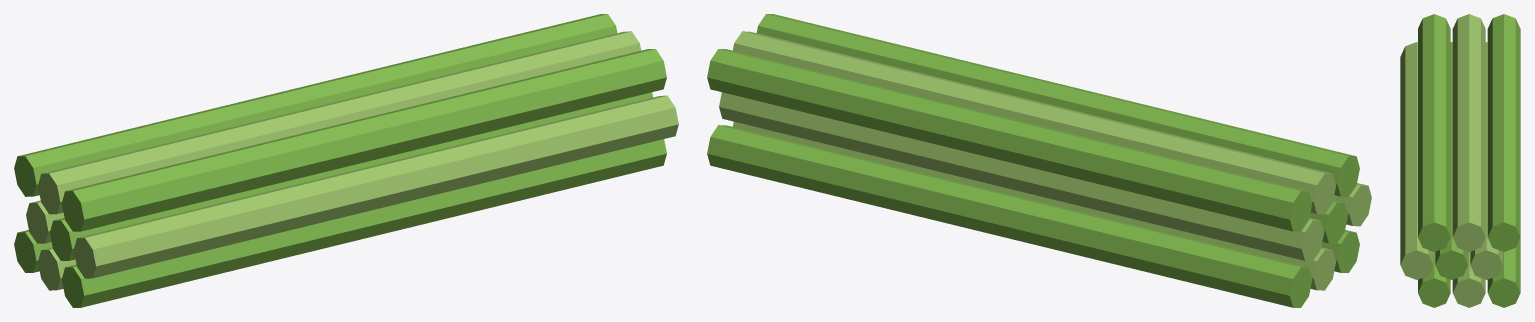
File: bai-tre.glb
3 views of the same model, side by side, from view 1: azimuth 30°, elevation 25°; view 2: azimuth 150°, elevation 25°; view 3: azimuth 270°, elevation 25° (orthographic). The views are drawn at different scales.
Parts seen in each view (by area): view 1: bai-tre-5, bai-tre-8, bai-tre-2, bai-tre-7, bai-tre-6, bai-tre-4, bai-tre-3, bai-tre-1, bai-tre-0; view 2: bai-tre-0, bai-tre-6, bai-tre-3, bai-tre-7, bai-tre-8, bai-tre-1, bai-tre-5, bai-tre-2, bai-tre-4; view 3: bai-tre-7, bai-tre-6, bai-tre-8, bai-tre-5, bai-tre-4, bai-tre-3, bai-tre-0, bai-tre-1, bai-tre-2.
Part boxes in pixels (box(x1,y1,x2,y2)): bai-tre-5: box(73, 95, 678, 278); bai-tre-8: box(61, 49, 666, 231); bai-tre-2: box(61, 139, 666, 307); bai-tre-7: box(38, 31, 641, 214); bai-tre-6: box(14, 14, 617, 196); bai-tre-4: box(50, 92, 652, 260); bai-tre-3: box(26, 200, 64, 243); bai-tre-1: box(38, 247, 76, 290); bai-tre-0: box(14, 230, 52, 272); bai-tre-0: box(707, 125, 1312, 307); bai-tre-6: box(707, 49, 1312, 231); bai-tre-3: box(719, 92, 1324, 260); bai-tre-7: box(733, 31, 1335, 214); bai-tre-8: box(756, 14, 1359, 196); bai-tre-1: box(732, 121, 1335, 290); bai-tre-5: box(1333, 183, 1371, 226); bai-tre-2: box(1321, 230, 1359, 272); bai-tre-4: box(1309, 200, 1347, 243); bai-tre-7: box(1452, 14, 1485, 251); bai-tre-6: box(1487, 14, 1520, 251); bai-tre-8: box(1418, 14, 1450, 251); bai-tre-5: box(1400, 42, 1433, 279); bai-tre-4: box(1435, 42, 1468, 279); bai-tre-3: box(1470, 42, 1502, 279); bai-tre-0: box(1487, 237, 1520, 307); bai-tre-1: box(1452, 252, 1485, 307); bai-tre-2: box(1418, 252, 1450, 307).
Size of the model in its own units: 2.4 by 0.46 by 0.585.
